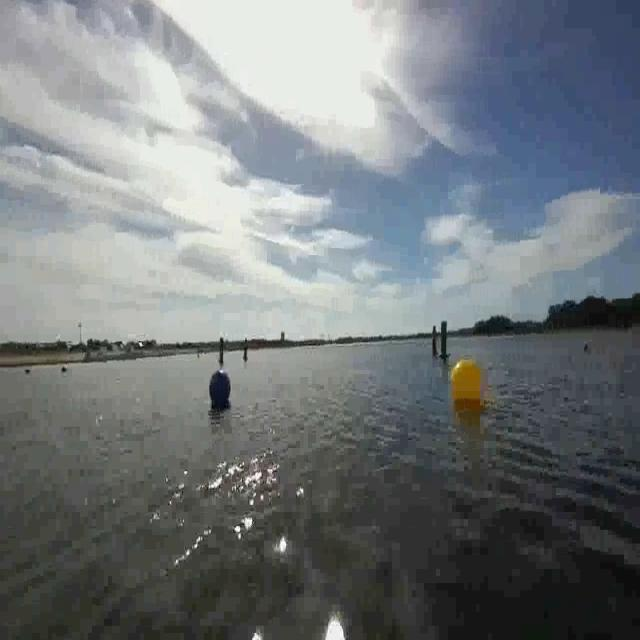blue-buoy: (208, 370, 230, 406)
green-column-buoy: (440, 320, 451, 360)
red-column-buoy: (430, 328, 438, 358)
yellow-buoy: (450, 356, 484, 403)
